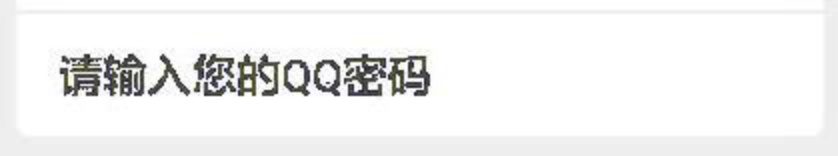EditText: (1, 1, 837, 155)
